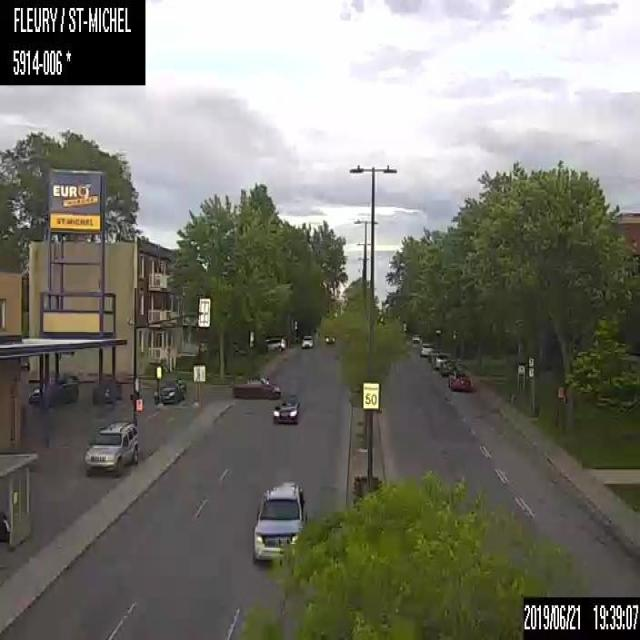vehicle: (251, 476, 305, 560), (82, 419, 139, 475), (27, 372, 79, 406), (230, 372, 280, 400), (90, 375, 122, 405), (272, 390, 300, 424), (151, 377, 186, 403), (447, 368, 472, 391), (440, 358, 461, 375), (431, 351, 452, 367), (264, 336, 286, 351), (419, 341, 435, 356), (299, 332, 313, 349), (322, 330, 334, 344), (410, 331, 421, 342)
